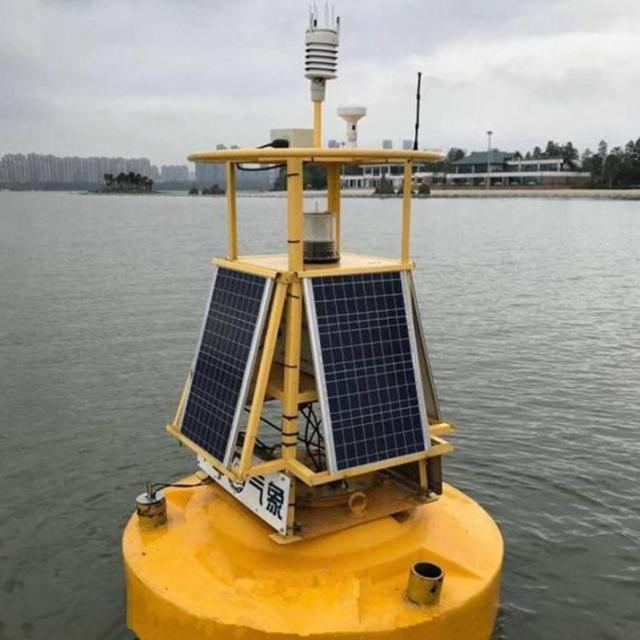buoy: (118, 7, 504, 640)
